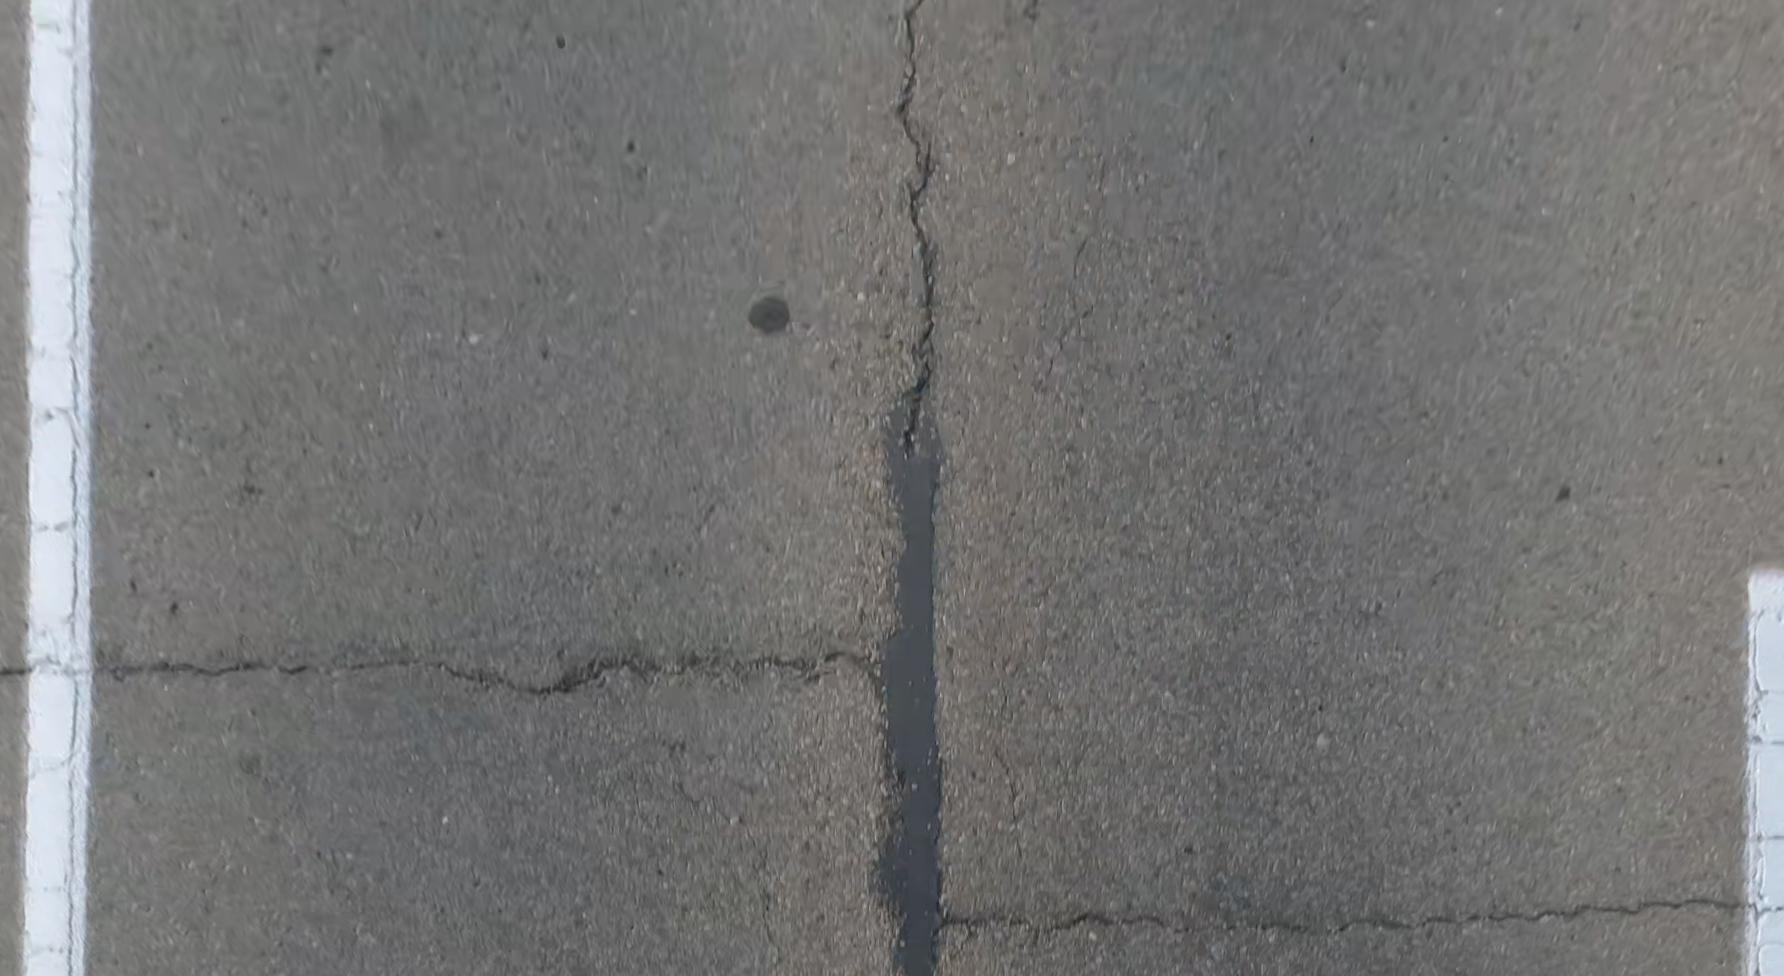pothole_patch_good: (747, 291, 790, 332)
pothole_patch_poor: (881, 387, 943, 976)
